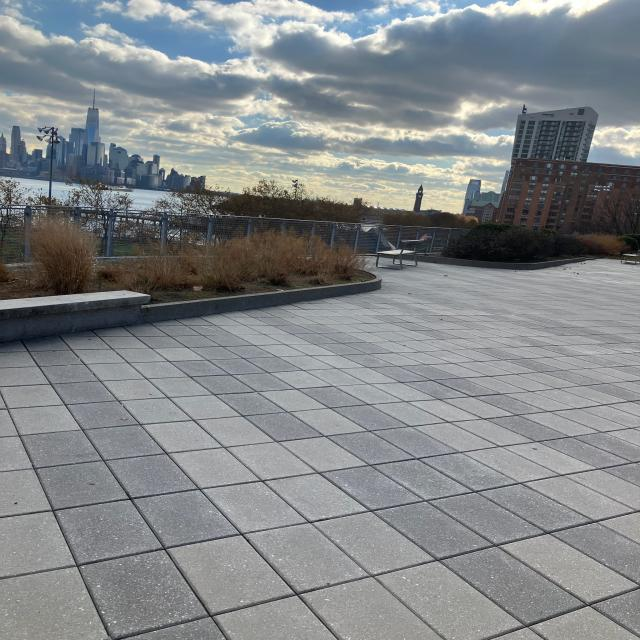WTC: (84, 87, 100, 143)
